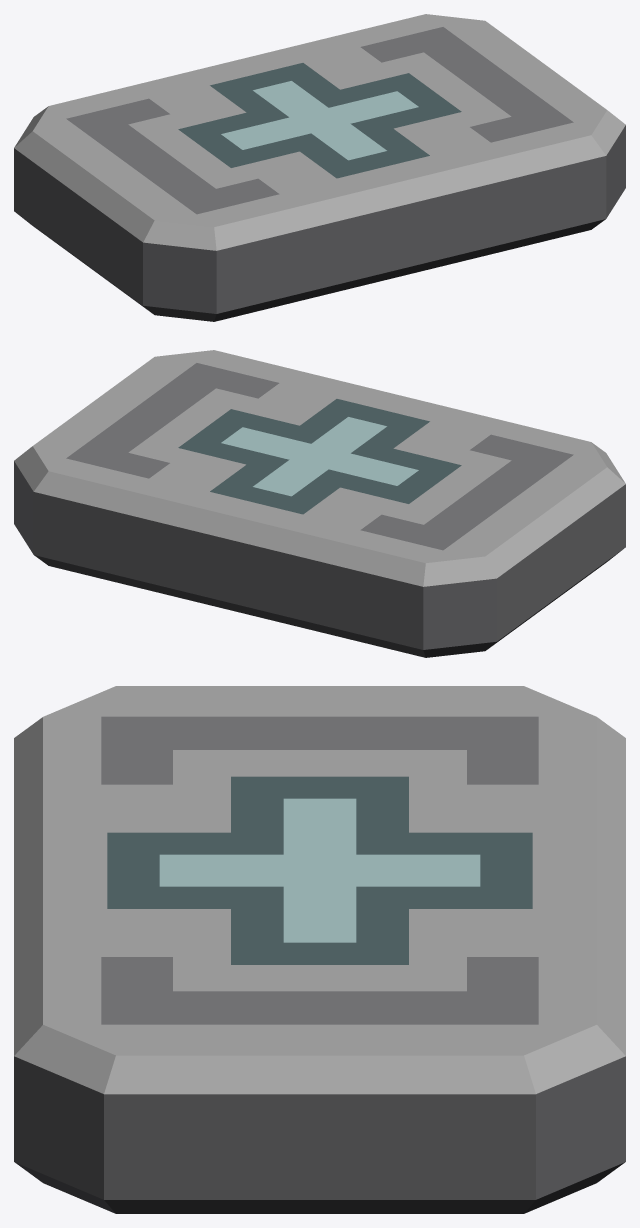
Rendered from item_medicine_ultratech_a.obj.
3 views of the same model, one above another, from view 1: azimuth 30°, elevation 25°; view 2: azimuth 150°, elevation 25°; view 3: azimuth 270°, elevation 25° (orthographic). The views are drawn at different scales.
Bounding box in the file's own units: 0.7296 × 0.1368 × 0.4788.
